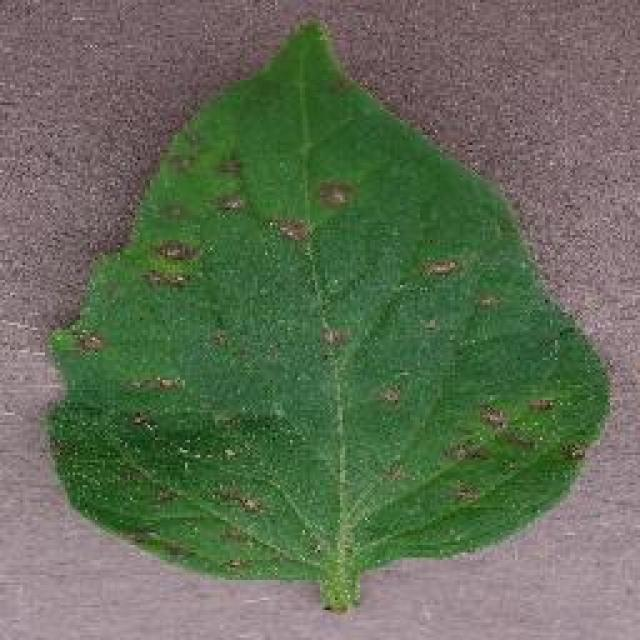Tomato Septoria spot leaf: (49, 15, 614, 580)
